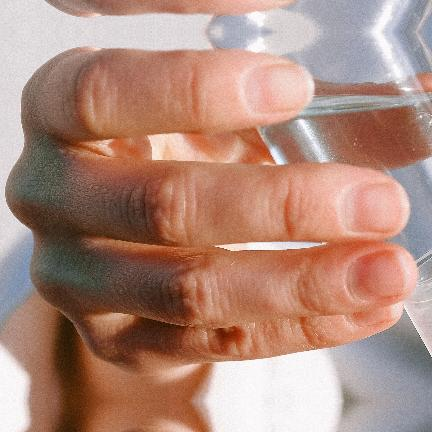Nail: (337, 180, 410, 232), (245, 61, 314, 112), (352, 249, 418, 298), (346, 301, 403, 327)
